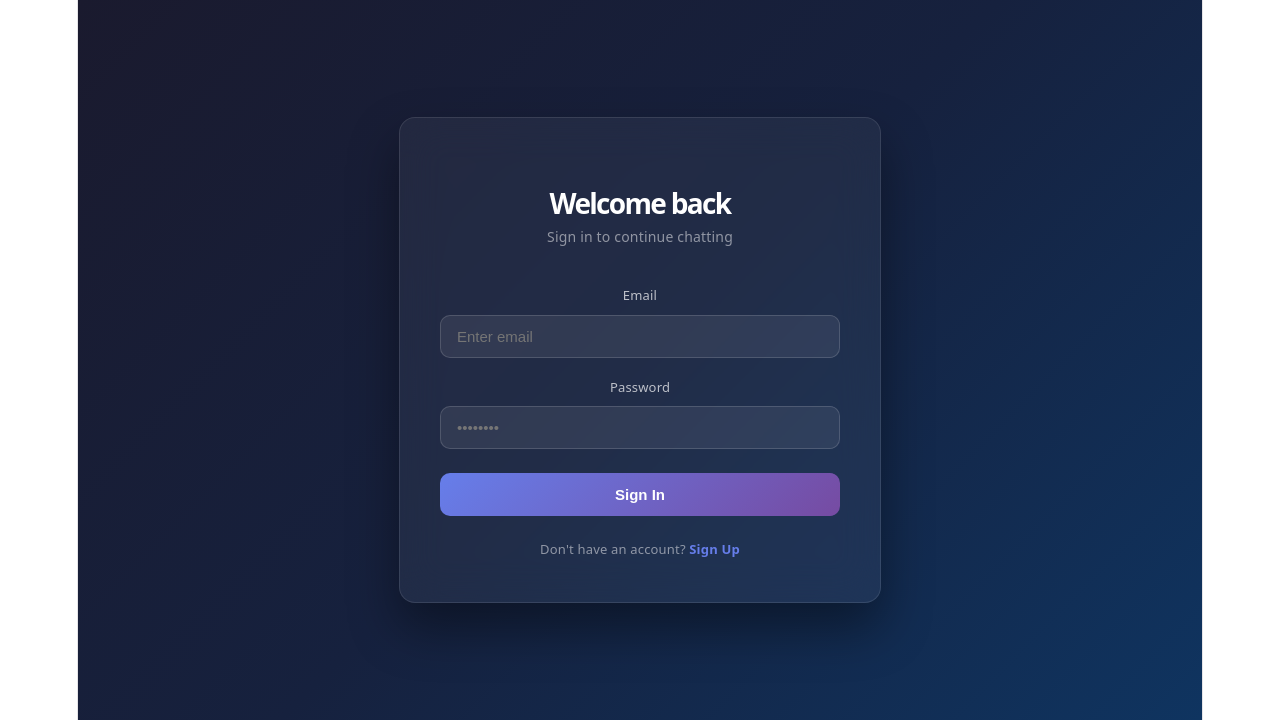
Login Component › shows error when email and password are empty
Click the button "Sign In".
click(640, 494)  # box left=440, top=473, right=840, bottom=516
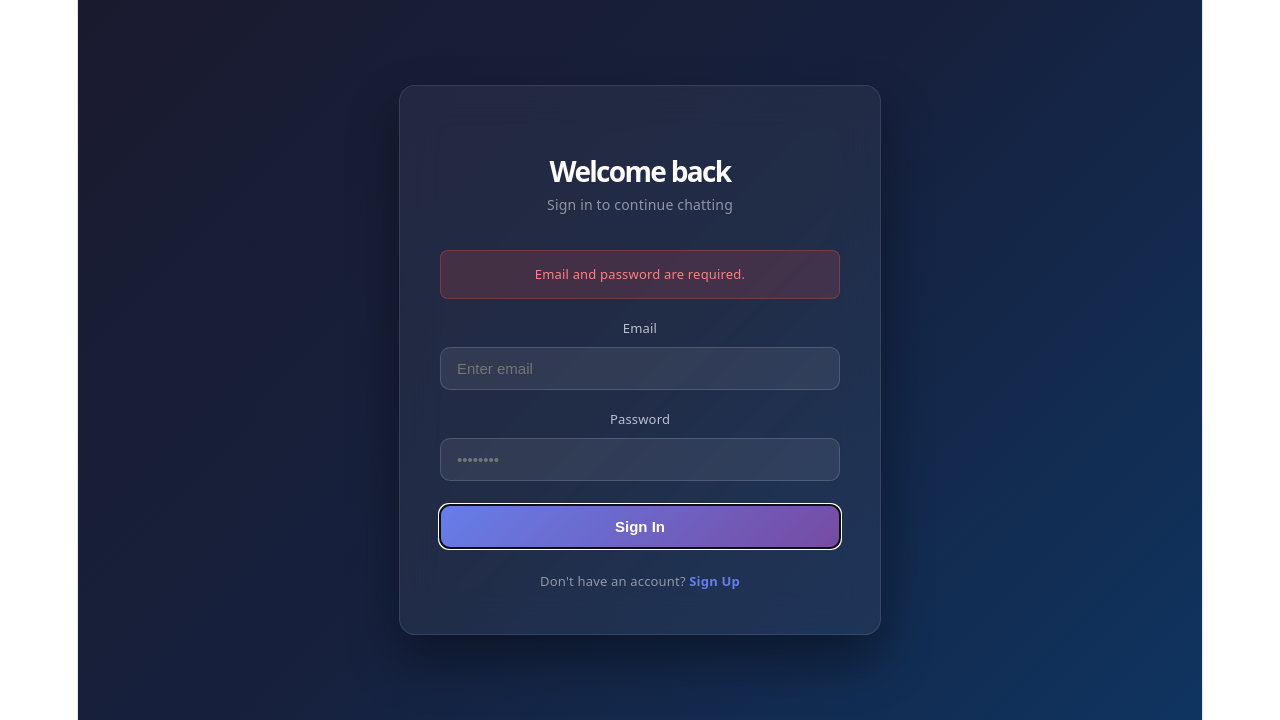
Expected: the text "Email and password are required." is shown, left=440, top=250, right=840, bottom=298
